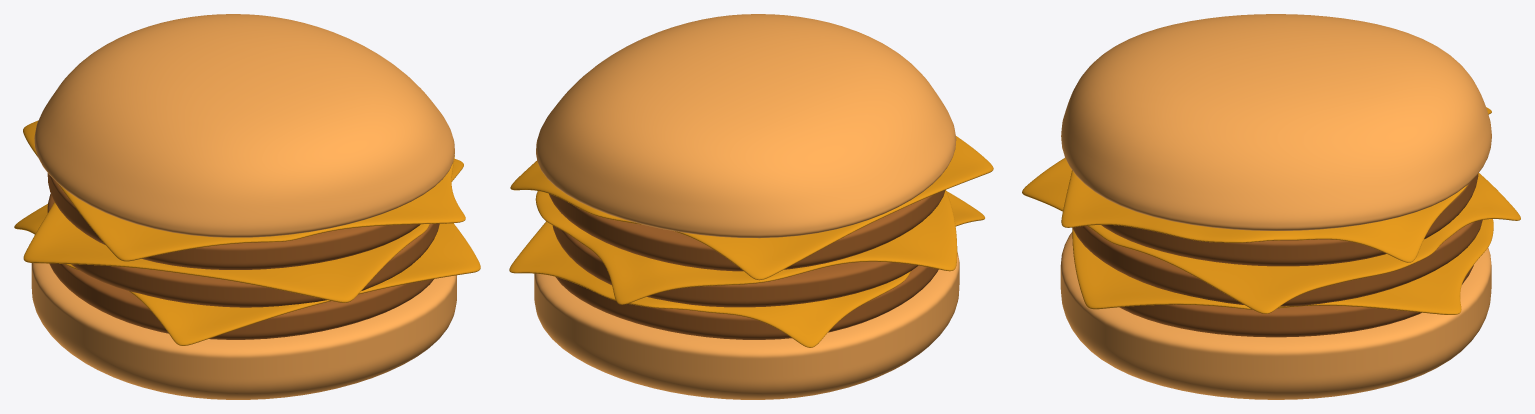
Rendered from triplecheese.glb.
3 views of the same model, side by side, from view 1: azimuth 30°, elevation 25°; view 2: azimuth 150°, elevation 25°; view 3: azimuth 270°, elevation 25° (orthographic). The views are drawn at different scales.
Parts seen in each view (by area): view 1: topBun.002, bottomBun.002, Cheeze.004, Cheeze.003, Steack.004, Cheeze.005, Steack.005, Steack.003; view 2: topBun.002, bottomBun.002, Cheeze.004, Cheeze.003, Steack.005, Steack.003, Cheeze.005, Steack.004; view 3: topBun.002, bottomBun.002, Cheeze.004, Cheeze.003, Cheeze.005, Steack.003, Steack.004, Steack.005.
Part boxes in pixels (left/top/right/bottom): topBun.002: left=34, top=14, right=454, bottom=237; bottomBun.002: left=31, top=263, right=456, bottom=399; Cheeze.004: left=23, top=159, right=463, bottom=302; Cheeze.003: left=14, top=204, right=480, bottom=345; Steack.004: left=49, top=263, right=433, bottom=339; Cheeze.005: left=23, top=120, right=465, bottom=261; Steack.005: left=47, top=173, right=420, bottom=269; Steack.003: left=47, top=194, right=439, bottom=307; topBun.002: left=536, top=14, right=956, bottom=238; bottomBun.002: left=534, top=252, right=959, bottom=399; Cheeze.004: left=535, top=190, right=957, bottom=304; Cheeze.003: left=509, top=191, right=984, bottom=347; Steack.005: left=549, top=190, right=945, bottom=271; Steack.003: left=552, top=225, right=917, bottom=307; Cheeze.005: left=510, top=136, right=993, bottom=280; Steack.004: left=555, top=265, right=938, bottom=339; topBun.002: left=1061, top=14, right=1491, bottom=230; bottomBun.002: left=1060, top=232, right=1491, bottom=399; Cheeze.004: left=1022, top=158, right=1520, bottom=313; Cheeze.003: left=1072, top=219, right=1493, bottom=314; Cheeze.005: left=1061, top=107, right=1491, bottom=262; Steack.003: left=1072, top=220, right=1482, bottom=306; Steack.004: left=1119, top=265, right=1473, bottom=337; Steack.005: left=1101, top=174, right=1478, bottom=266.
Size of the model in its own units: 10.79 by 6.74 by 10.56.
